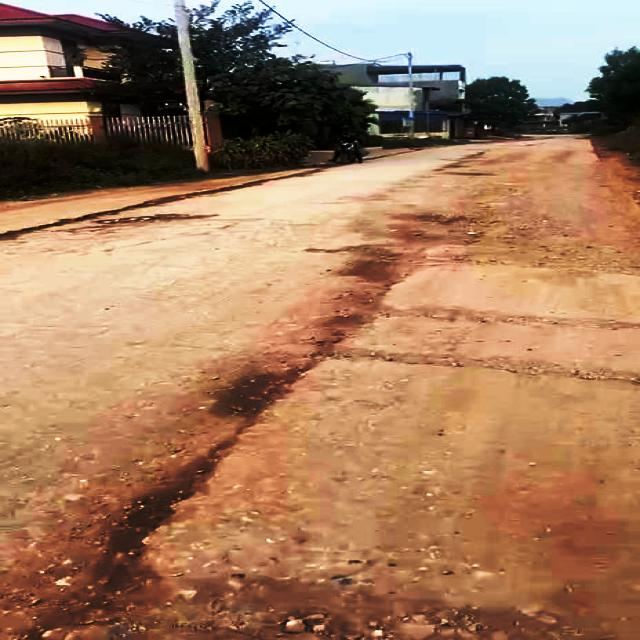pothole: (77, 563, 545, 640), (320, 343, 634, 384), (358, 304, 640, 332), (94, 209, 212, 229)
